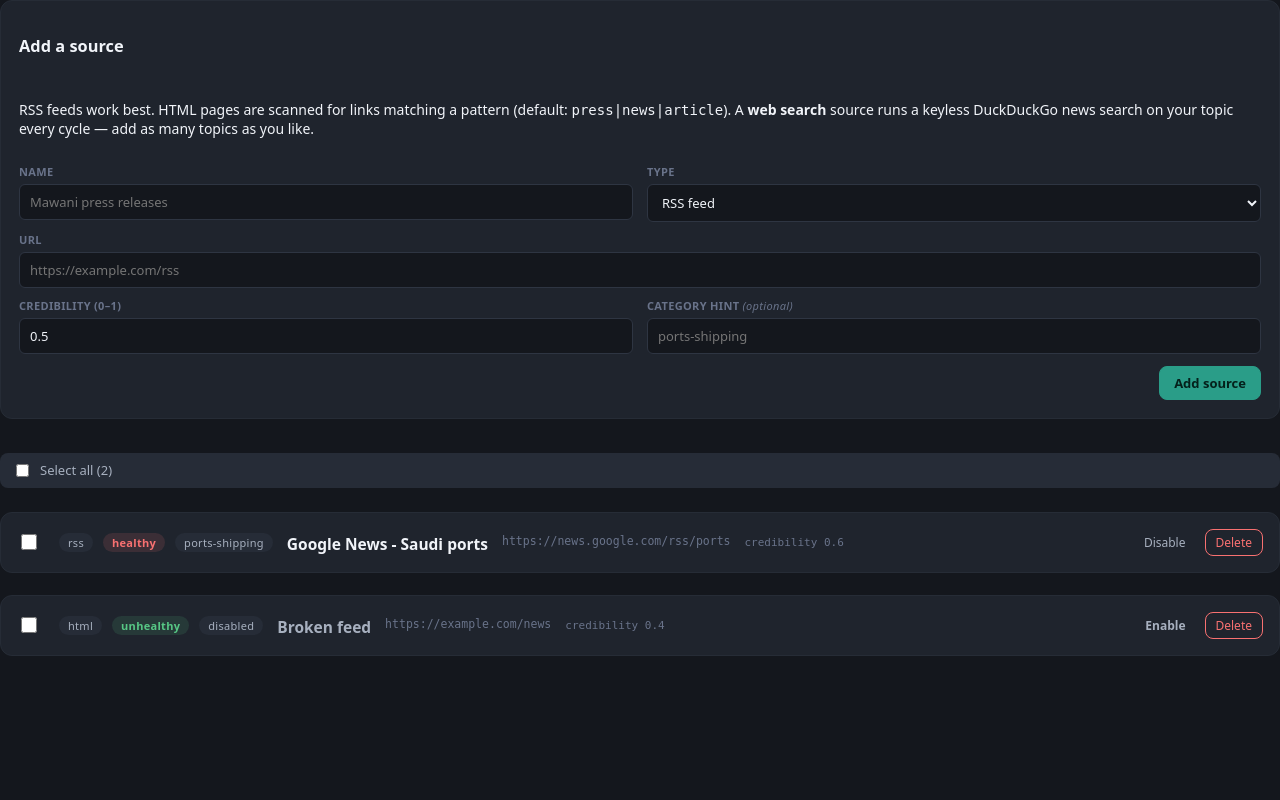
adds a source through the form and reloads the list
Expected: the heading "Google News - Saudi ports" is shown, [287,534,488,554]
In the field labelled "Name": [326, 202] box [19,184,633,220], type "Zahid feed"
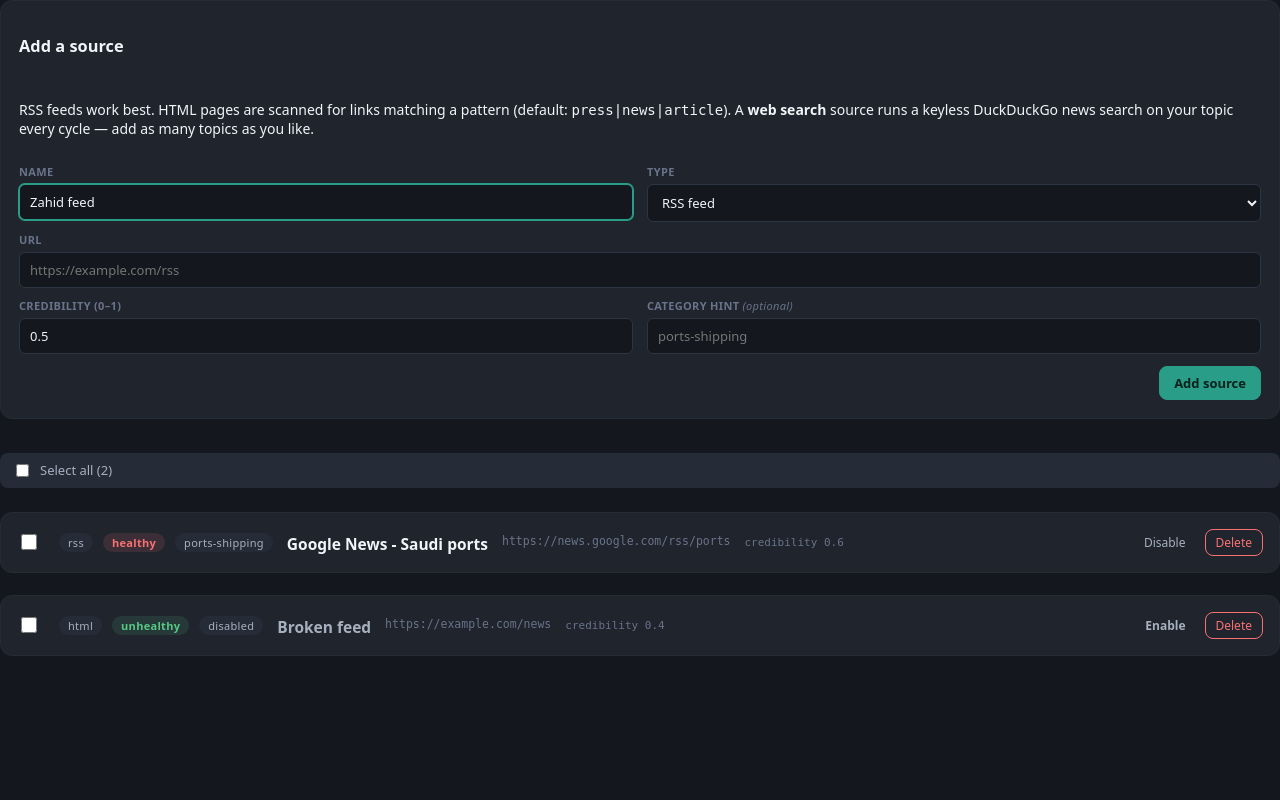
In the field labelled "URL": [640, 270] box [19,252,1261,288], type "https://zahid.com/rss"
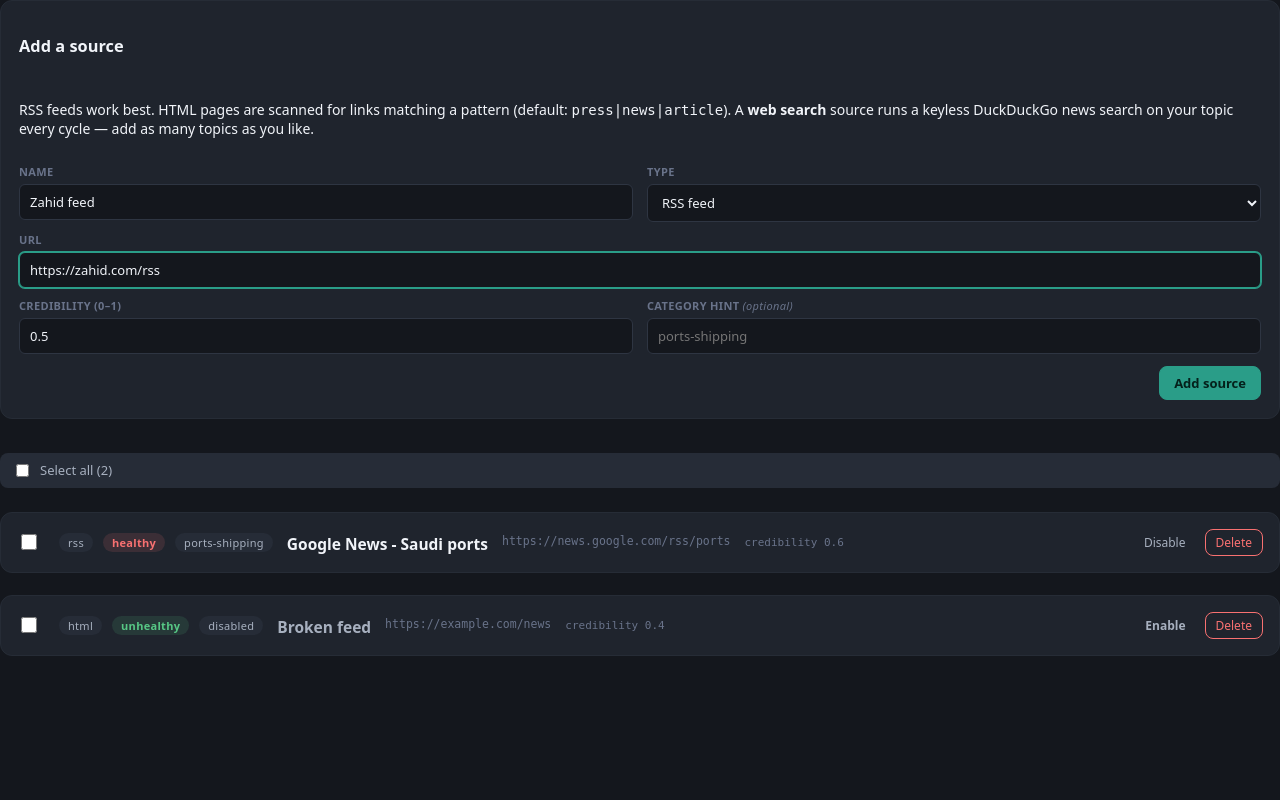
Click the button "Add source": [1210, 383] box [1159,366,1261,400]
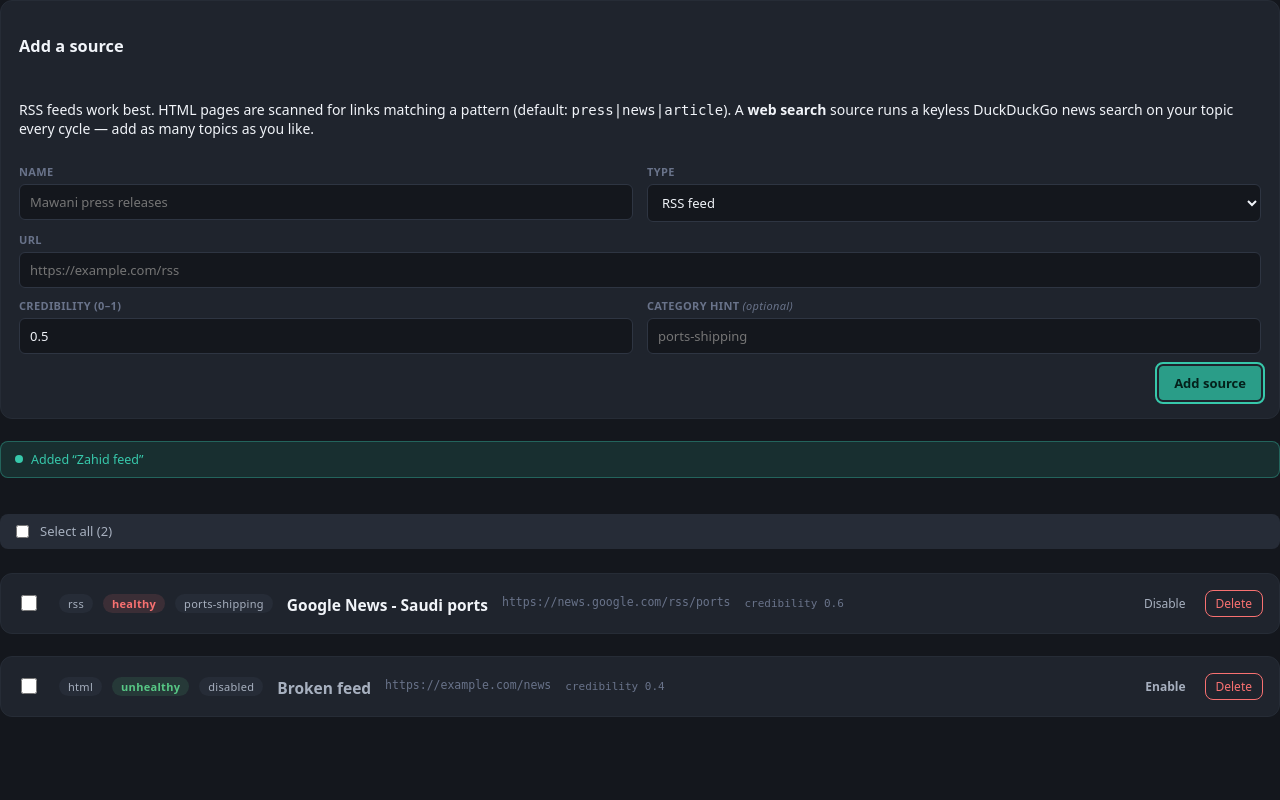
Expected: the text "Added “Zahid feed”" is shown, [0,441,1279,478]
